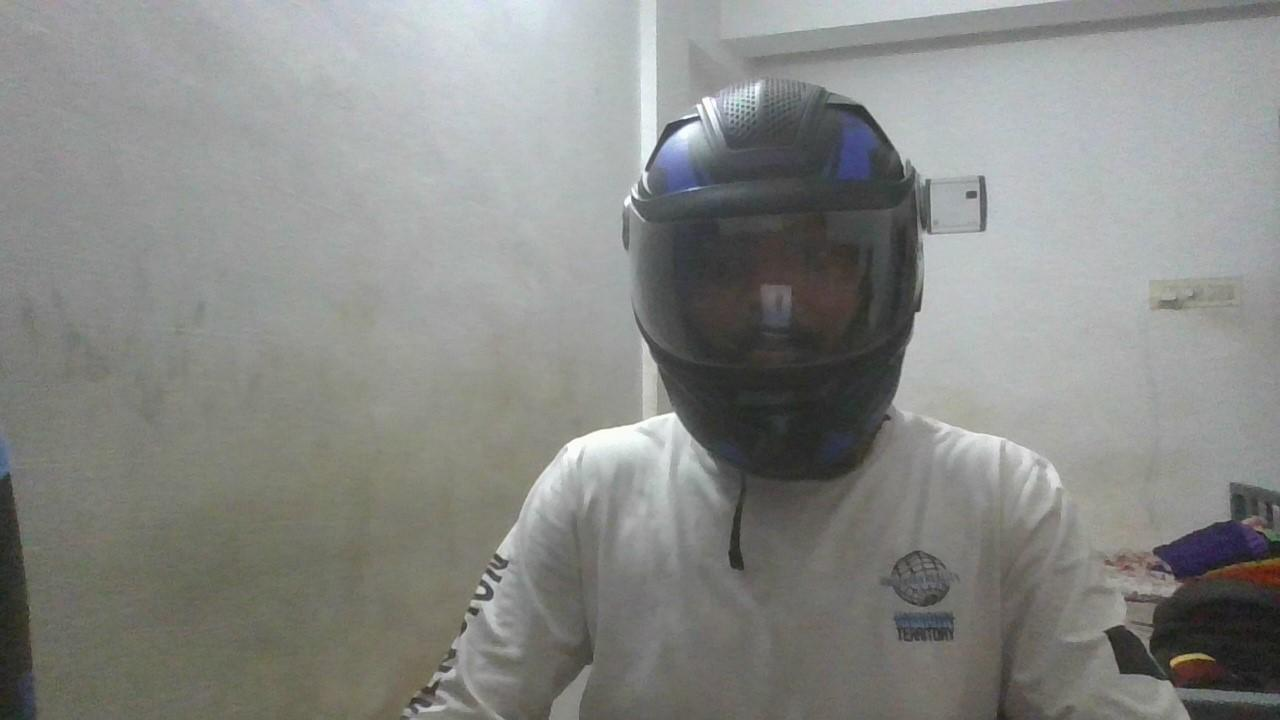helmet: (620, 75, 929, 482)
